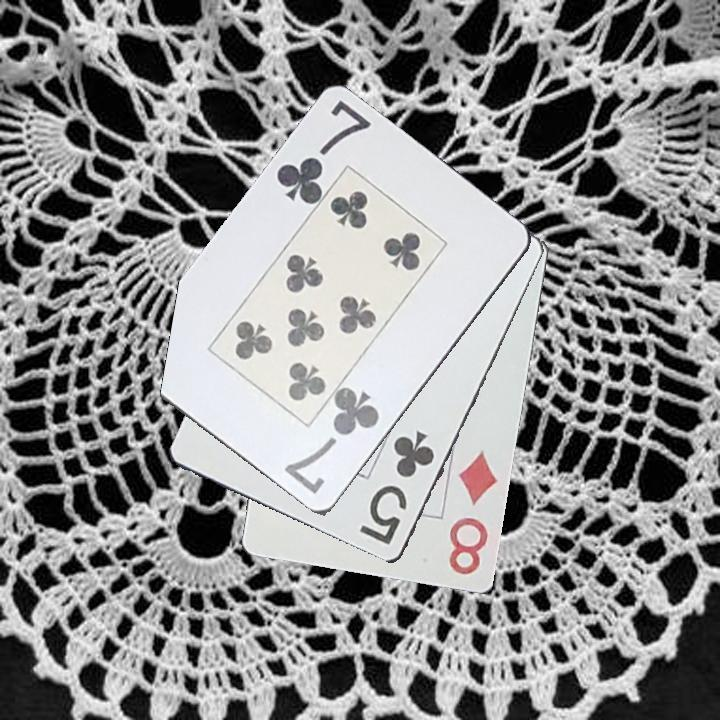5c: (356, 427, 438, 549)
7c: (272, 96, 375, 209), (282, 384, 383, 498)
8d: (445, 447, 501, 579)
